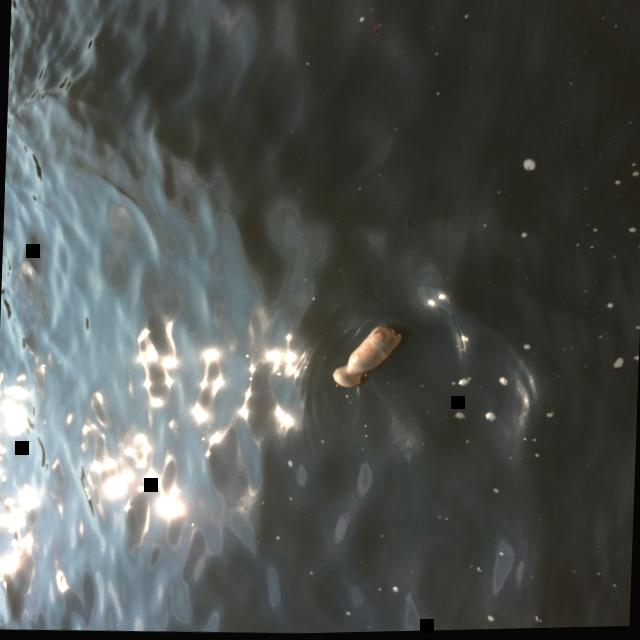Clear plastic bottle: (332, 326, 400, 387)
